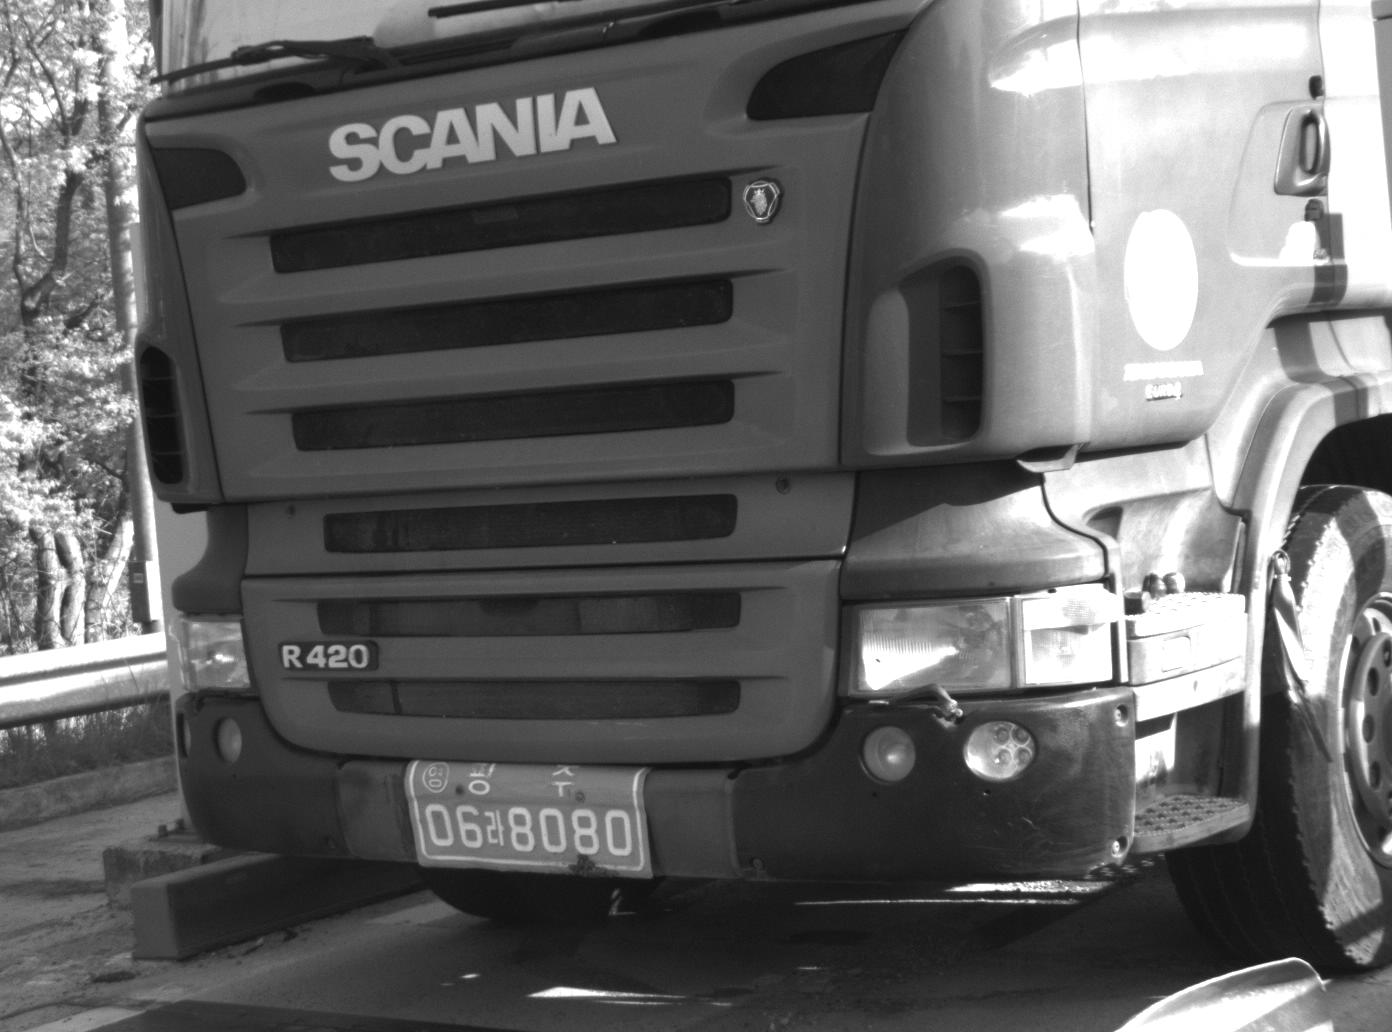car: (130, 1, 1390, 982)
plate: (399, 753, 664, 886)
